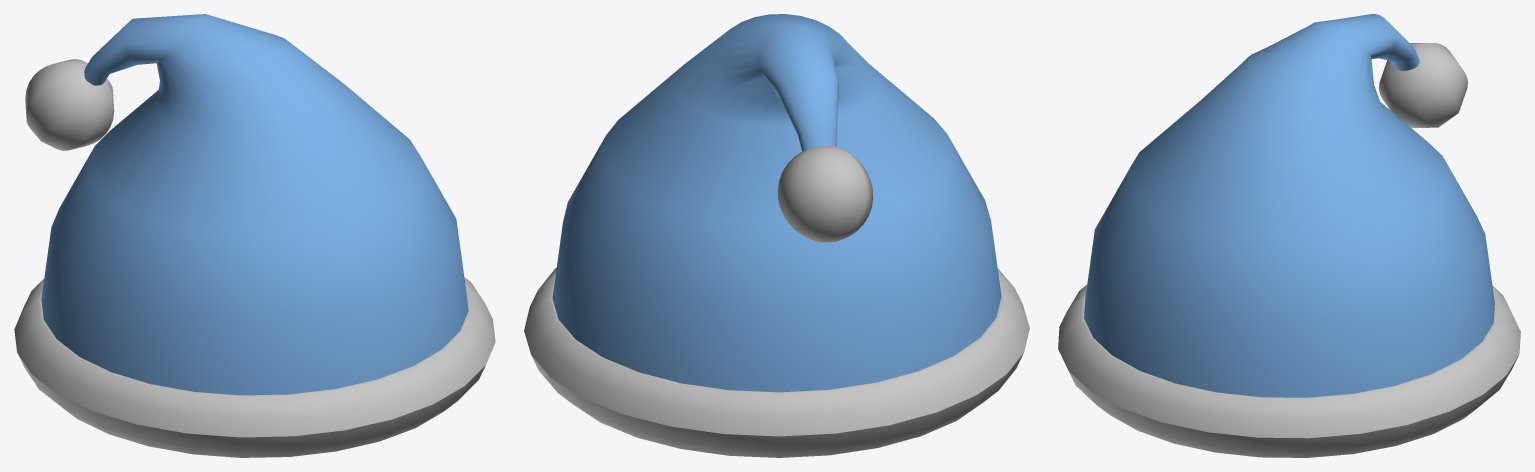
The model's file is nightcap.fbx.
3 renders of one model, left to right at view 1: azimuth 30°, elevation 25°; view 2: azimuth 150°, elevation 25°; view 3: azimuth 270°, elevation 25°, orthographic. The views are drawn at different scales.
Parts seen in each view (by area): view 1: Circle.005, Circle.004, Sphere; view 2: Circle.005, Circle.004, Sphere; view 3: Circle.005, Circle.004, Sphere.
Part boxes in pixels (left/top/right/bottom): Circle.005: left=41, top=14, right=468, bottom=395; Circle.004: left=14, top=277, right=495, bottom=457; Sphere: left=25, top=59, right=114, bottom=150; Circle.005: left=552, top=14, right=1001, bottom=392; Circle.004: left=524, top=267, right=1029, bottom=457; Sphere: left=777, top=146, right=873, bottom=242; Circle.005: left=1084, top=14, right=1494, bottom=397; Circle.004: left=1058, top=284, right=1520, bottom=457; Sphere: left=1379, top=43, right=1467, bottom=127.
Bounding box in the file's own units: 72.02 × 56.56 × 72.02.
